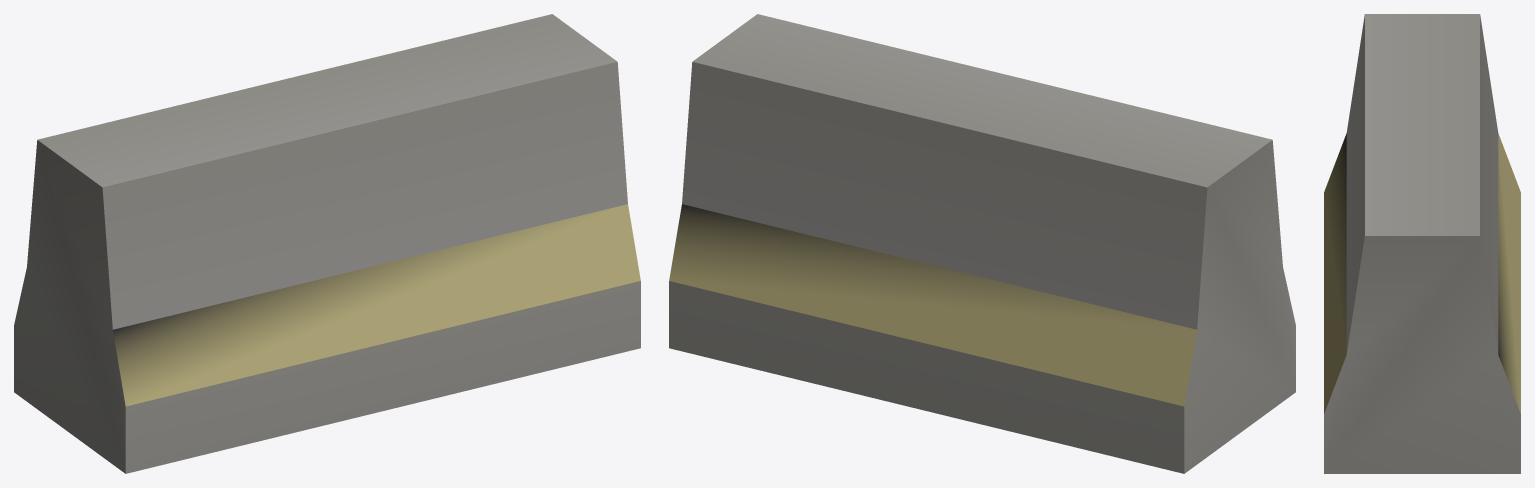
Rendered from detail-barrier-strong-type-b.glb.
3 views of the same model, side by side, from view 1: azimuth 30°, elevation 25°; view 2: azimuth 150°, elevation 25°; view 3: azimuth 270°, elevation 25° (orthographic). The views are drawn at different scales.
Parts seen in each view (by area): view 1: detail-barrier-strong-type-b; view 2: detail-barrier-strong-type-b; view 3: detail-barrier-strong-type-b.
Part boxes in pixels (<box>): detail-barrier-strong-type-b: <box>14,14,640,473</box>; detail-barrier-strong-type-b: <box>669,14,1295,473</box>; detail-barrier-strong-type-b: <box>1324,14,1520,473</box>.
Bounding box in the file's own units: 0.664 × 0.332 × 0.249.
